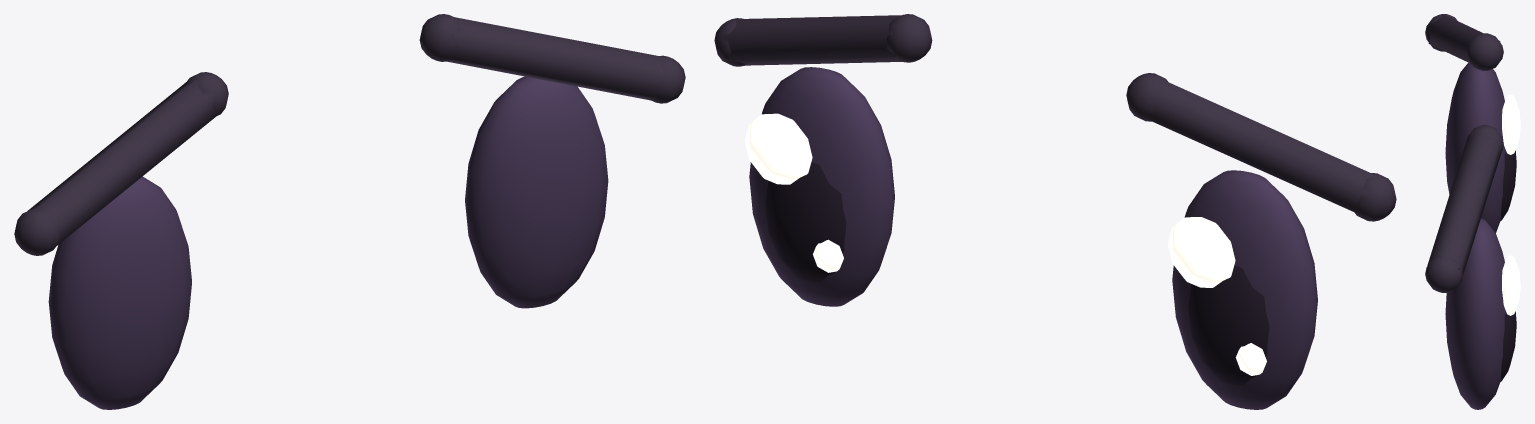
The model's file is Eyes_Droopy.fbx.
3 views of the same model, side by side, from view 1: azimuth 30°, elevation 25°; view 2: azimuth 150°, elevation 25°; view 3: azimuth 270°, elevation 25° (orthographic). The views are drawn at different scales.
Visible parts, largest first — view 1: Eye, Eye.001, Eye_Lid, Eye_Lid.001, Eye_Lid_Cap.003, Eye_Lid_Cap, Eye_Lid_Cap.001, Eye_Lid_Cap.002; view 2: Eye.001, Eye, Eye_Lid.001, Eye_Lid, Eye_Pupil, Eye_Pupil.001, Eye_Sparkle, Eye_Sparkle.002, Eye_Lid_Cap, Eye_Lid_Cap.003, Eye_Lid_Cap.002, Eye_Sparkle.001 (+2 smaller); view 3: Eye, Eye.001, Eye_Lid, Eye_Lid.001, Eye_Lid_Cap.002, Eye_Lid_Cap.001, Eye_Sparkle, Eye_Sparkle.002, Eye_Pupil.001, Eye_Pupil, Eye_Lid_Cap, Eye_Lid_Cap.003.
Boxes of the visible parts, box(x1,y1,x2,y2) form: Eye: box(465, 76, 608, 308); Eye.001: box(48, 176, 191, 409); Eye_Lid: box(445, 16, 671, 100); Eye_Lid.001: box(28, 77, 222, 247); Eye_Lid_Cap.003: box(14, 208, 59, 255); Eye_Lid_Cap: box(419, 14, 461, 61); Eye_Lid_Cap.001: box(649, 55, 685, 103); Eye_Lid_Cap.002: box(186, 72, 228, 115); Eye.001: box(1172, 170, 1317, 409); Eye: box(749, 67, 894, 306); Eye_Lid.001: box(1140, 77, 1379, 215); Eye_Lid: box(721, 15, 902, 65); Eye_Pupil: box(765, 162, 846, 282); Eye_Pupil.001: box(1188, 265, 1269, 385); Eye_Sparkle: box(744, 113, 812, 184); Eye_Sparkle.002: box(1167, 217, 1235, 287); Eye_Lid_Cap: box(886, 14, 932, 62); Eye_Lid_Cap.003: box(1354, 173, 1396, 221); Eye_Lid_Cap.002: box(1126, 73, 1167, 121); Eye_Sparkle.001: box(813, 239, 843, 272); Eye: box(1445, 218, 1505, 409); Eye.001: box(1445, 62, 1505, 232); Eye_Lid: box(1427, 130, 1501, 282); Eye_Lid.001: box(1427, 14, 1500, 63); Eye_Lid_Cap.002: box(1466, 33, 1503, 70); Eye_Lid_Cap.001: box(1425, 256, 1462, 292); Eye_Sparkle: box(1502, 255, 1520, 315); Eye_Sparkle.002: box(1502, 94, 1520, 154); Eye_Pupil.001: box(1500, 150, 1516, 220); Eye_Pupil: box(1500, 311, 1516, 381); Eye_Lid_Cap: box(1467, 125, 1503, 153); Eye_Lid_Cap.003: box(1425, 14, 1457, 51).
Bounding box in the file's own units: 44.66 × 19.9 × 7.05.
